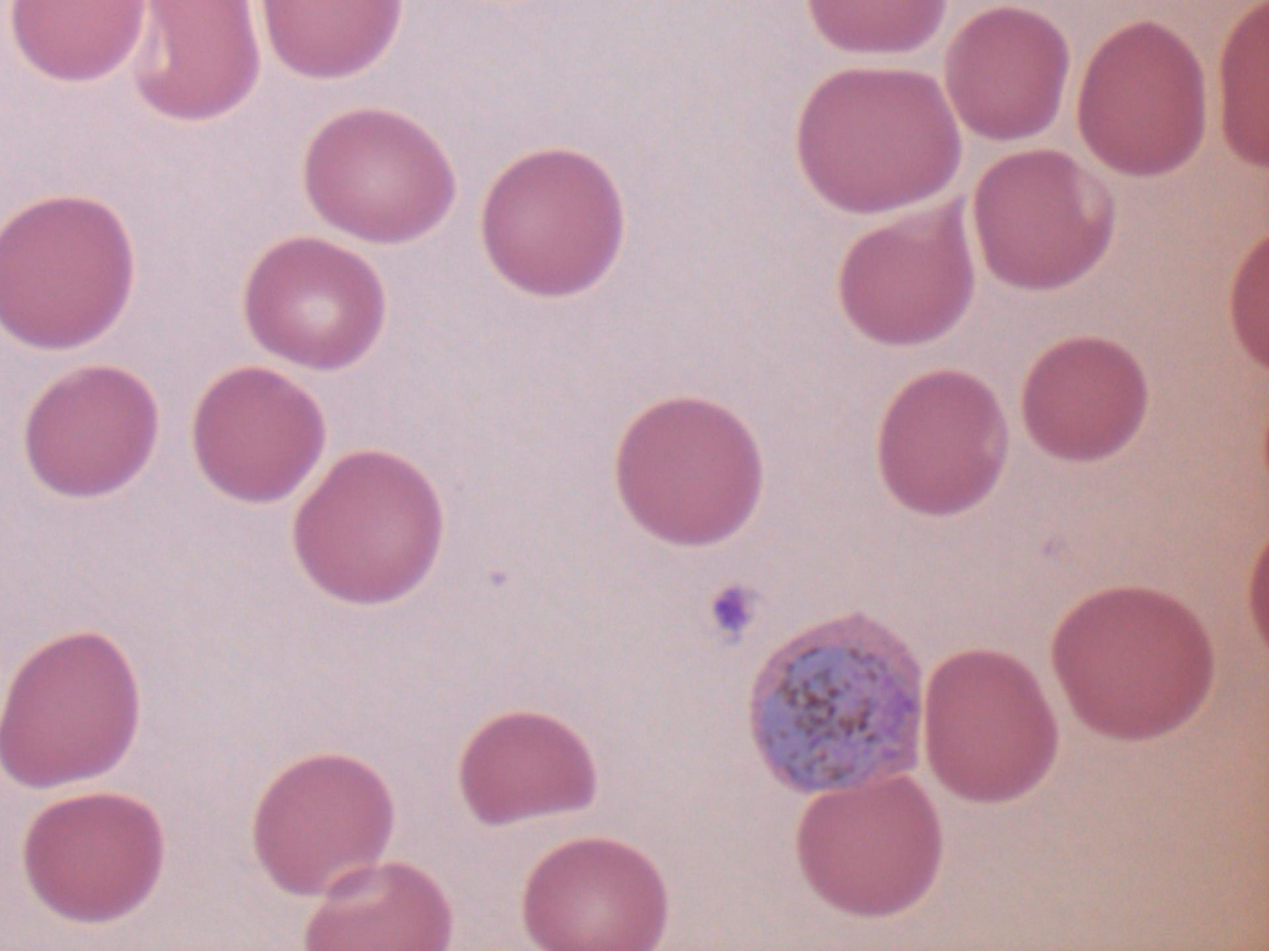Infected: (749, 614, 922, 791)
Uninfected: (1049, 588, 1211, 739), (291, 450, 443, 603), (799, 74, 958, 213), (1, 633, 139, 788), (481, 149, 622, 292), (623, 397, 759, 545), (0, 198, 133, 347), (304, 108, 454, 240), (796, 778, 940, 915), (922, 654, 1053, 803), (254, 756, 394, 895), (240, 236, 383, 370), (971, 152, 1109, 288), (1079, 22, 1204, 171), (878, 372, 1007, 515), (840, 210, 973, 346), (21, 793, 161, 920), (23, 366, 157, 496), (194, 368, 324, 501), (519, 839, 665, 951), (945, 8, 1066, 137), (1022, 336, 1146, 460), (459, 713, 593, 826), (134, 1, 260, 116), (305, 864, 447, 951), (266, 3, 397, 76), (17, 1, 138, 78), (812, 3, 943, 48)
